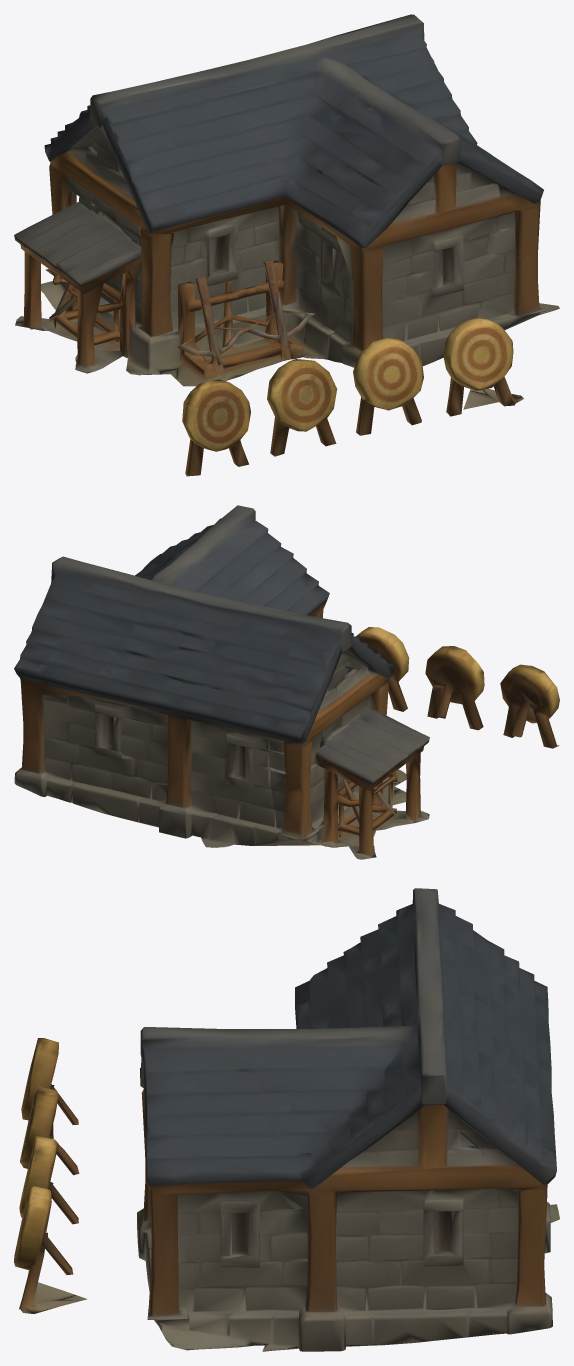
The model's file is source.glb.
3 views of the same model, one above another, from view 1: azimuth 30°, elevation 25°; view 2: azimuth 150°, elevation 25°; view 3: azimuth 270°, elevation 25° (orthographic). The views are drawn at different scales.
Parts seen in each view (by area): view 1: tripo_node_0dcf7faf-7158-4fde-80d6-dc8e93964f5d; view 2: tripo_node_0dcf7faf-7158-4fde-80d6-dc8e93964f5d; view 3: tripo_node_0dcf7faf-7158-4fde-80d6-dc8e93964f5d.
Boxes of the visible parts, x1,y1,x2,y2 form: tripo_node_0dcf7faf-7158-4fde-80d6-dc8e93964f5d: (14,14,559,476); tripo_node_0dcf7faf-7158-4fde-80d6-dc8e93964f5d: (14,505,559,859); tripo_node_0dcf7faf-7158-4fde-80d6-dc8e93964f5d: (14,888,559,1351).
Bounding box in the file's own units: 1 × 0.5301 × 0.9286.
1 material, 1 textured.
